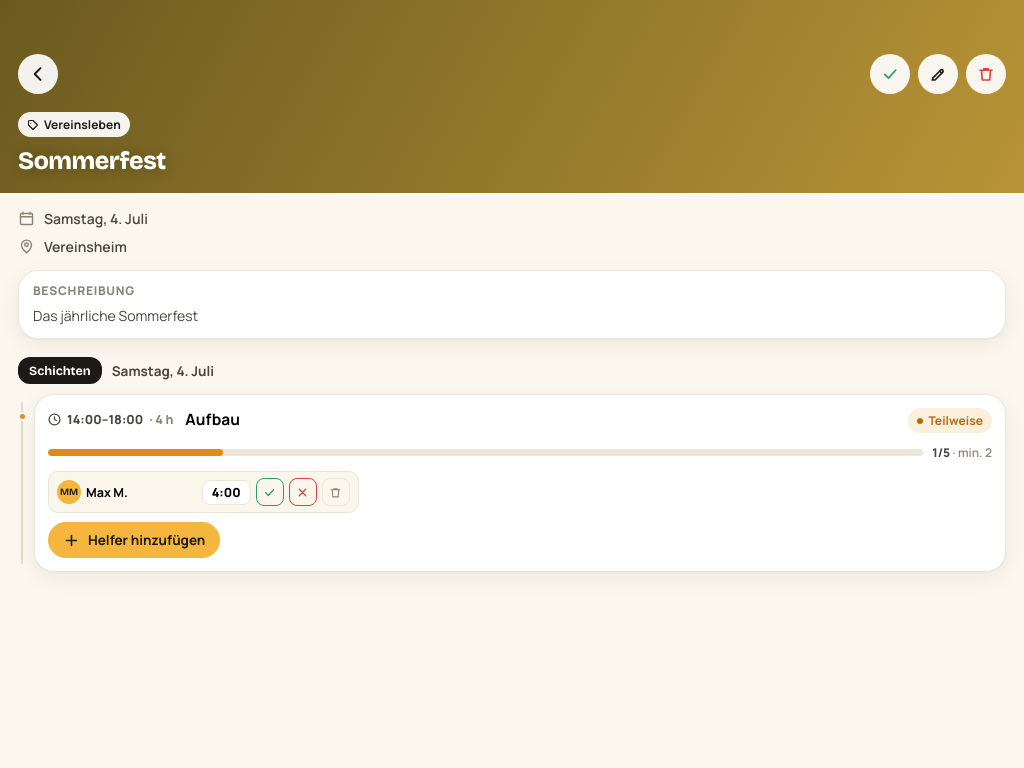
Test case: EventDetail click-through under the app-level remount key › keeps the registrant list visible after closing the time-edit sheet
This screenshot has width=1024, height=768.
Click the button titled "Zeit bearbeiten": (226, 492) [202, 480, 251, 504]
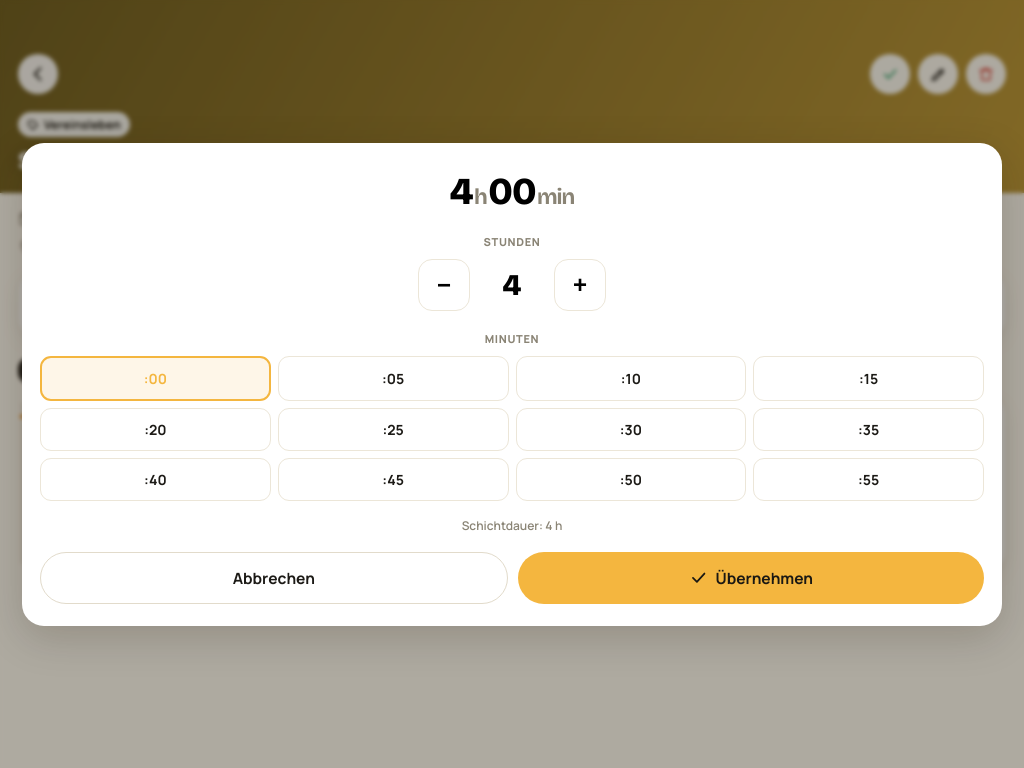
Click the button "Abbrechen": (274, 578) [40, 552, 508, 604]
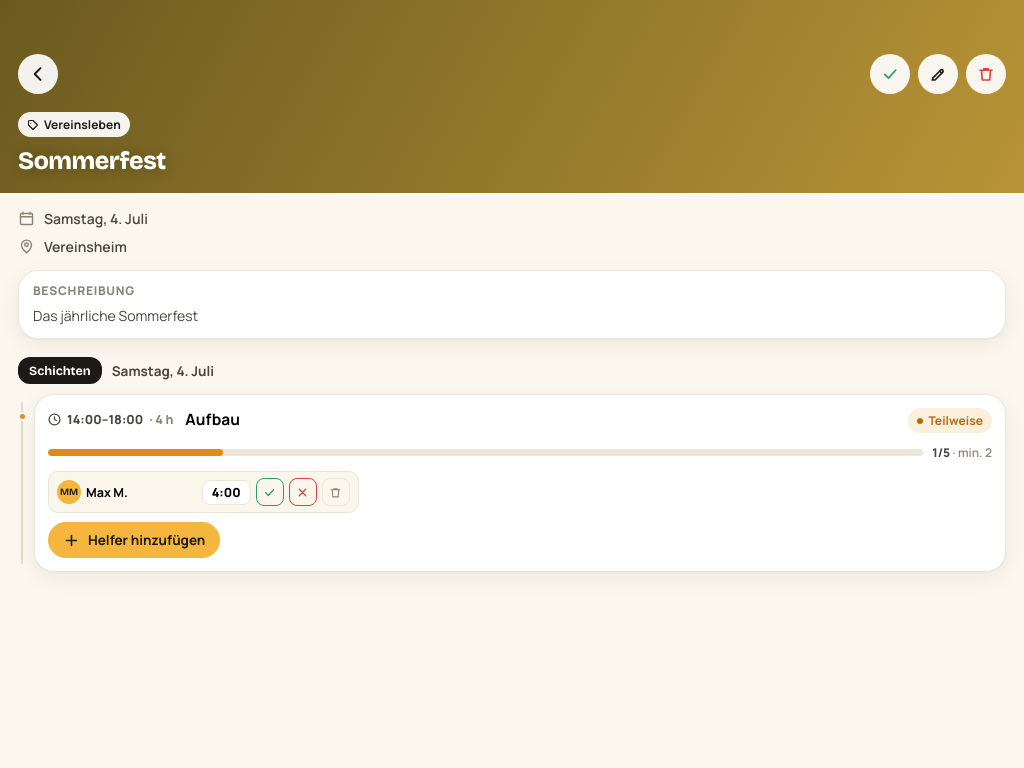
Expected: the button titled "Zeit bearbeiten" is shown, [202, 480, 251, 504]
Expected: the button "Übernehmen" is gone
